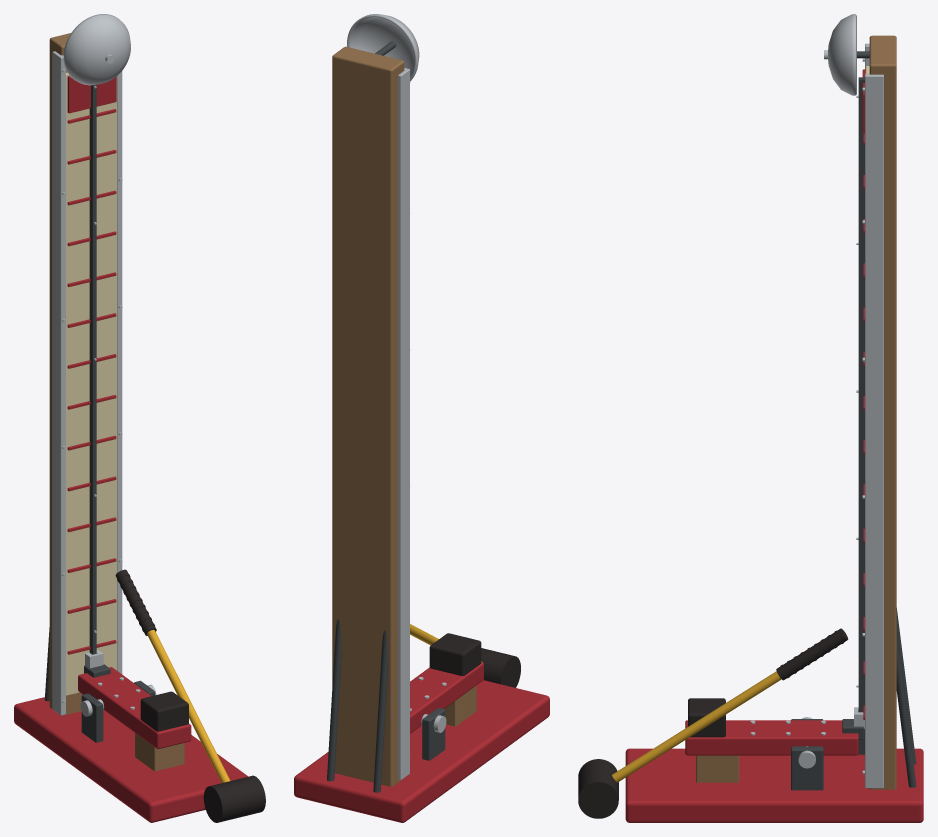
The picture shows the model from 3 angles, left to right: view 1: azimuth 30°, elevation 25°; view 2: azimuth 150°, elevation 25°; view 3: azimuth 270°, elevation 25°; orthographic projection. The views are drawn at different scales.
Visible parts, largest first — view 1: Pale vertical score face, Grounded long game base, Metal score edge rail -1, Central raised slider guide, Convex round top bell shell, Metal score edge rail 1, Long static strike lever, Tall closed structural score post, Grounded companion mallet head, Upper black striking pad, Mallet painted handle, Top target color field (+3 smaller); view 2: Tall closed structural score post, Grounded long game base, Metal score edge rail -1, Convex round top bell shell, Long static strike lever, Upper black striking pad, Generic rear post brace 1, Generic rear post brace -1, Grounded companion mallet head, Lever pivot bracket -1, Grounded lever support block; view 3: Grounded long game base, Metal score edge rail 1, Tall closed structural score post, Long static strike lever, Central raised slider guide, Grounded companion mallet head, Mallet painted handle, Convex round top bell shell, Lever pivot bracket 1, Grounded lever support block, Upper black striking pad, Generic rear post brace 1 (+1 smaller).
Boxes of the visible parts, box(x1,y1,x2,y2) form: Pale vertical score face: box(66, 72, 116, 695); Grounded long game base: box(14, 697, 247, 822); Metal score edge rail -1: box(52, 51, 65, 715); Central raised slider guide: box(89, 84, 96, 654); Convex round top bell shell: box(63, 14, 130, 85); Metal score edge rail 1: box(117, 71, 122, 673); Long static strike lever: box(78, 667, 191, 749); Tall closed structural score post: box(49, 33, 82, 715); Grounded companion mallet head: box(203, 775, 265, 822); Upper black striking pad: box(140, 691, 188, 731); Mallet painted handle: box(147, 629, 230, 782); Top target color field: box(67, 76, 116, 113); Tall closed structural score post: box(332, 46, 404, 786); Grounded long game base: box(294, 680, 549, 822); Metal score edge rail -1: box(398, 68, 409, 780); Convex round top bell shell: box(347, 14, 419, 81); Long static strike lever: box(410, 662, 483, 733); Upper black striking pad: box(429, 633, 481, 675); Generic rear post brace 1: box(327, 619, 341, 781); Generic rear post brace -1: box(373, 630, 387, 792); Grounded companion mallet head: box(481, 648, 520, 687); Lever pivot bracket -1: box(422, 708, 445, 760); Grounded lever support block: box(444, 685, 476, 726); Grounded long game base: box(625, 748, 923, 822); Metal score edge rail 1: box(865, 73, 883, 788); Tall closed structural score post: box(869, 35, 896, 789); Long static strike lever: box(685, 720, 858, 755); Central raised slider guide: box(858, 77, 864, 754); Grounded companion mallet head: box(578, 759, 618, 818); Mallet painted handle: box(612, 671, 781, 782); Convex round top bell shell: box(828, 14, 856, 95); Lever pivot bracket 1: box(791, 746, 823, 790); Grounded lever support block: box(696, 755, 739, 782); Upper black striking pad: box(688, 698, 725, 737); Generic rear post brace 1: box(896, 631, 916, 787).
Bounding box in the file's own units: 0.48 × 3.17 × 1.28.
